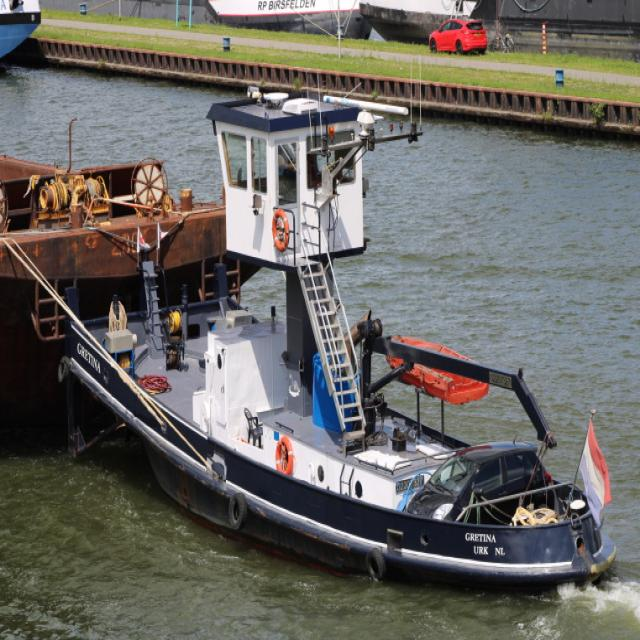tugboat: (59, 82, 622, 615)
